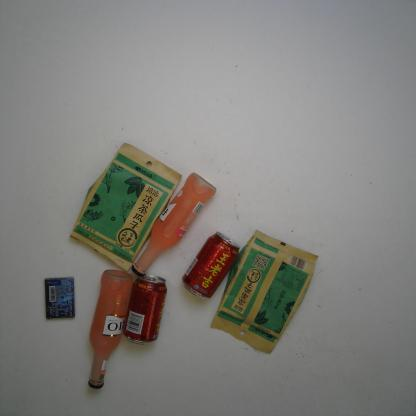Alcohol: (130, 172, 217, 276), (85, 266, 133, 388)
Dried Food: (67, 143, 182, 268), (208, 228, 319, 352)
Drink: (182, 230, 242, 300), (122, 274, 167, 344)
Gum: (43, 275, 76, 319)
